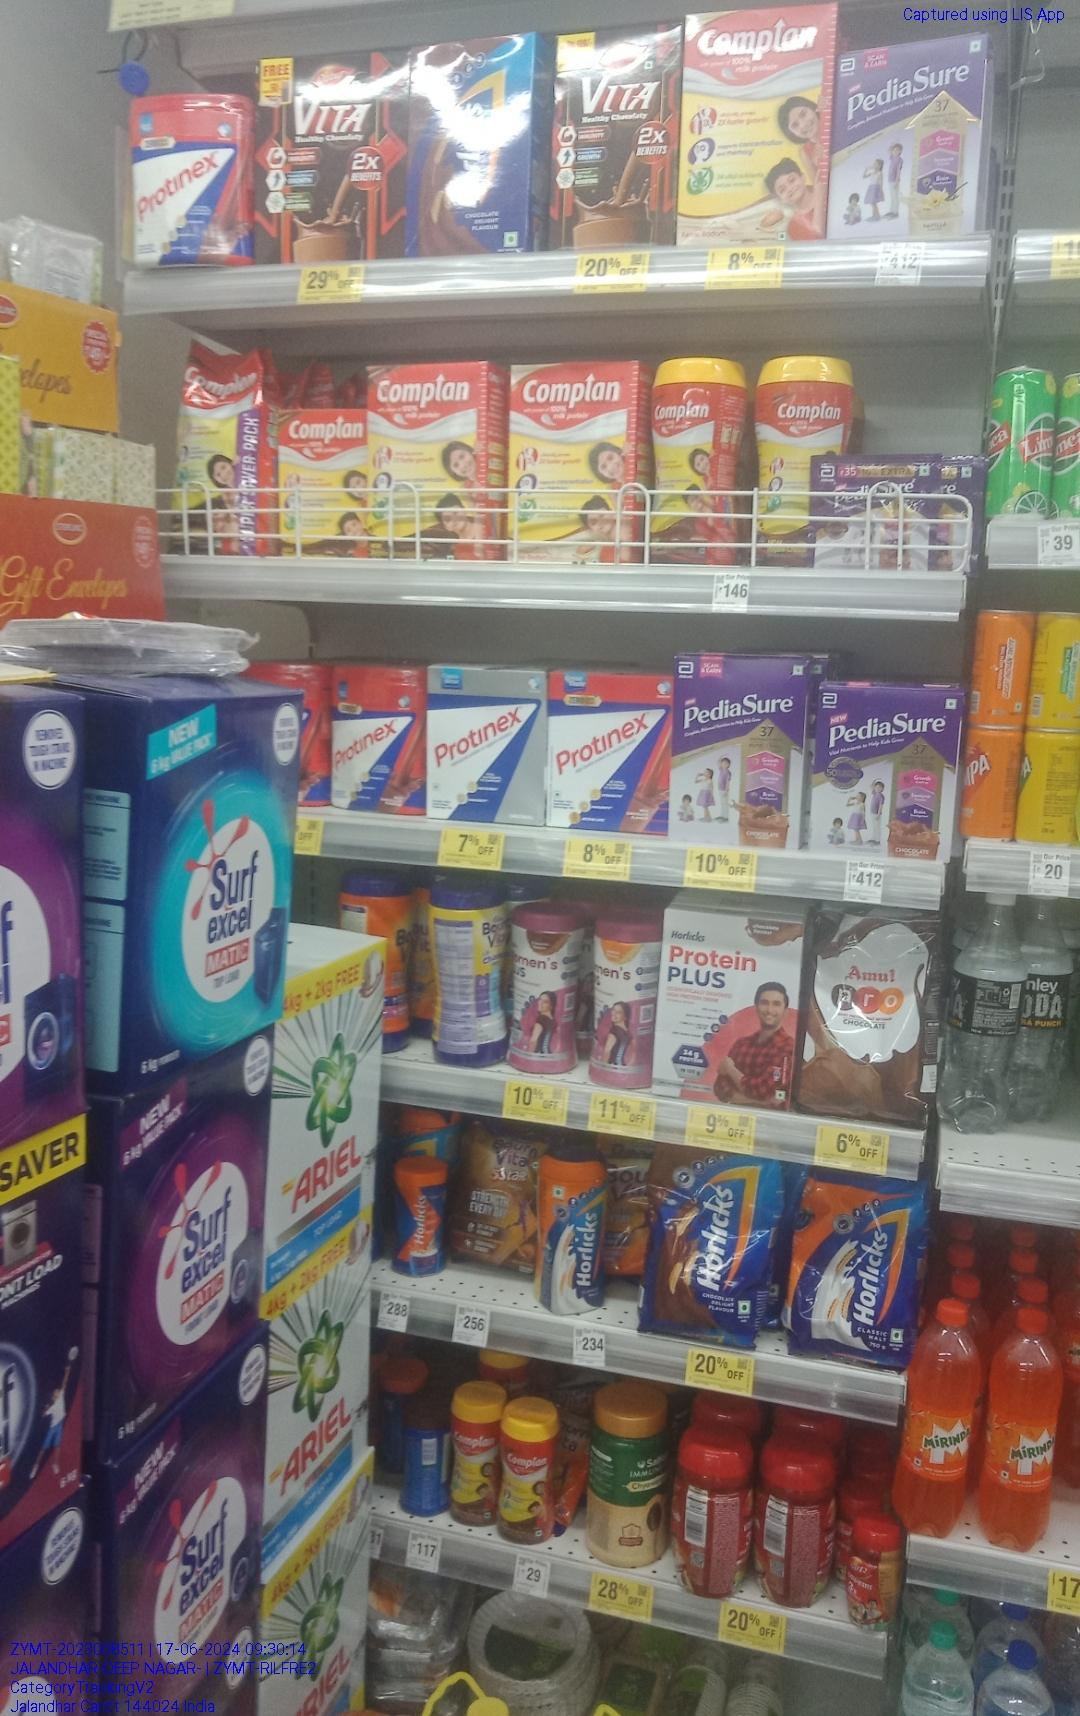COMPLAN_CHOCOLATE_200_GMS_JAR: (499, 1396, 551, 1541), (450, 1381, 499, 1523)
COMPLAN_CHOCOLATE_200_GMS_PACK: (281, 409, 363, 554)
COMPLAN_CHOCOLATE_500_GMS_JAR: (754, 353, 822, 564), (649, 356, 714, 565)
PEDIASURE_CHOCOLATE_500_G_PACK: (812, 683, 956, 866), (676, 653, 805, 844)
PEDIASURE_VANILLA_500_G_PACK: (835, 37, 984, 245)
PROTINEX_CHOCOLATE_400_G_JAR: (136, 93, 254, 270), (333, 666, 428, 819)
